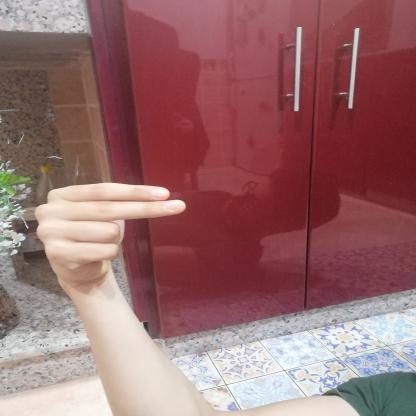AYN: (21, 174, 199, 291)
